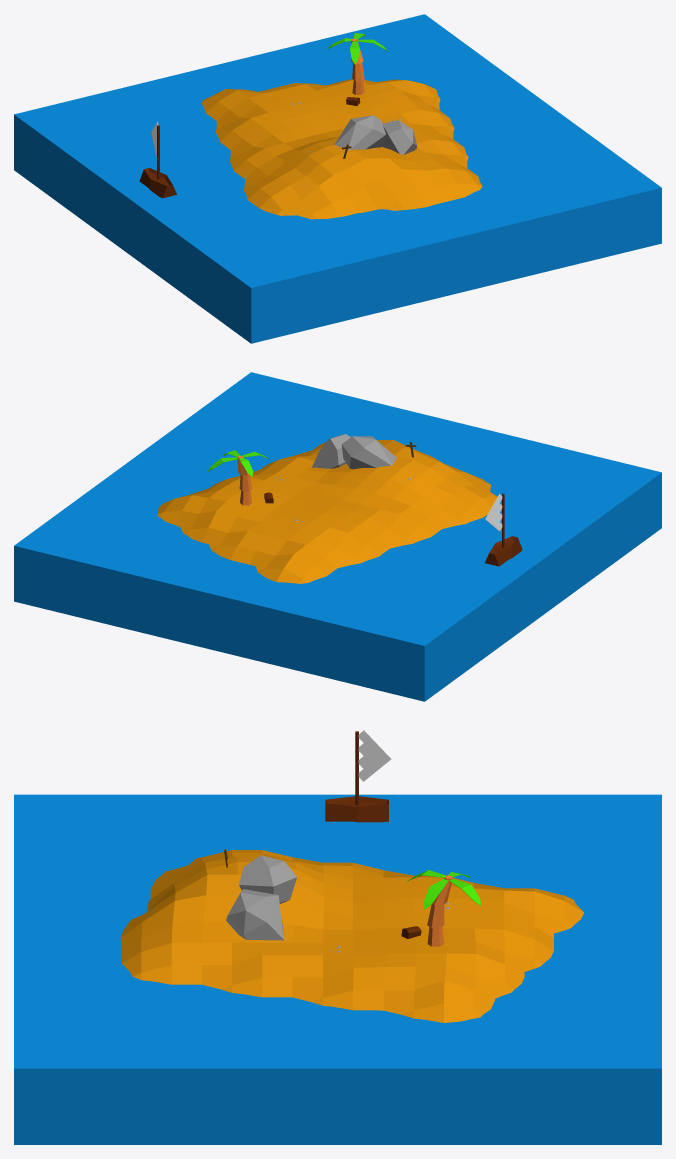
File: island.glb
3 renders of one model, top to bottom at view 1: azimuth 30°, elevation 25°; view 2: azimuth 150°, elevation 25°; view 3: azimuth 270°, elevation 25°, orthographic. The views are drawn at different scales.
Parts seen in each view (by area): view 1: Water, Island, Rock2, Boat, Rock1; view 2: Water, Island, Rock2, Boat, Rock1; view 3: Water, Island, Boat, Rock1, Rock2, Trunk.
Part boxes in pixels (x1,y1,x2,y2): Water: (14, 14, 661, 343); Island: (201, 79, 482, 219); Rock2: (335, 115, 385, 150); Boat: (139, 122, 176, 198); Rock1: (382, 120, 416, 154); Water: (14, 372, 661, 701); Island: (157, 436, 497, 583); Rock2: (341, 436, 396, 469); Boat: (485, 493, 522, 566); Rock1: (312, 434, 350, 468); Water: (14, 794, 661, 1144); Island: (120, 850, 583, 1022); Boat: (325, 730, 391, 822); Rock1: (226, 889, 283, 940); Rock2: (239, 855, 296, 903); Trunk: (427, 875, 452, 946).
Bounding box in the file's own units: 20.41 × 5.87 × 20.41.
